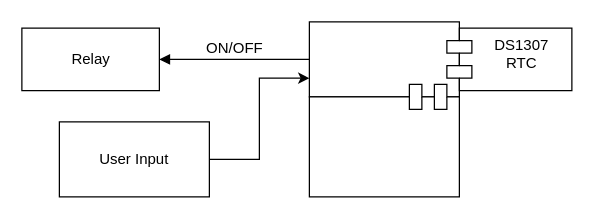
Image size: 594x219. Some labels were removed from this diagram. Each missing label, with the box of its shape:
Arduino Microcontroller: (308, 21, 459, 97)
Liquid Crystal Display: (308, 83, 459, 197)
